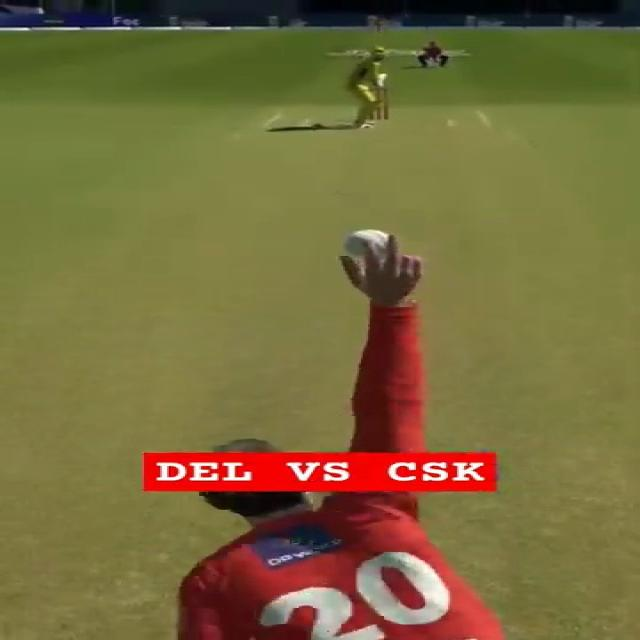ball: (340, 226, 395, 258)
